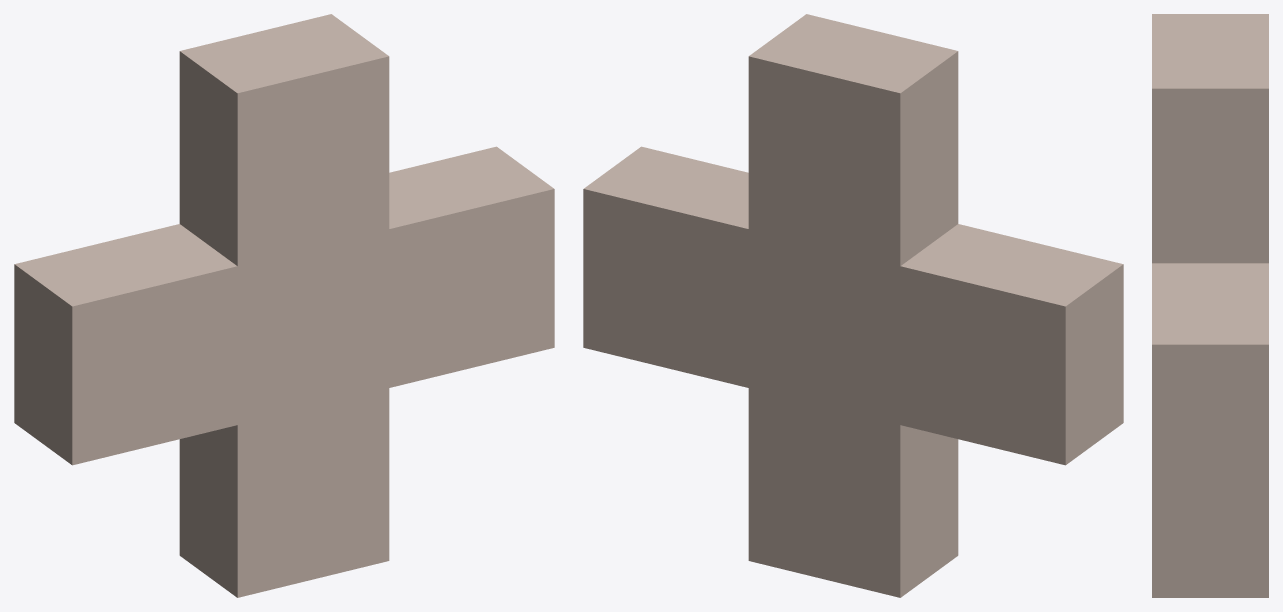
File: 05 plus.FBX
The picture shows the model from 3 angles, left to right: view 1: azimuth 30°, elevation 25°; view 2: azimuth 150°, elevation 25°; view 3: azimuth 270°, elevation 25°; orthographic projection.
Visible parts, largest first — view 1: SM_Icon_Health_02; view 2: SM_Icon_Health_02; view 3: SM_Icon_Health_02.
Part boxes in pixels (x1,y1,x2,y2): SM_Icon_Health_02: [14, 14, 554, 597]; SM_Icon_Health_02: [583, 14, 1123, 597]; SM_Icon_Health_02: [1152, 14, 1268, 597].
Size of the model in its own units: 52.49 by 52.49 by 10.91.
